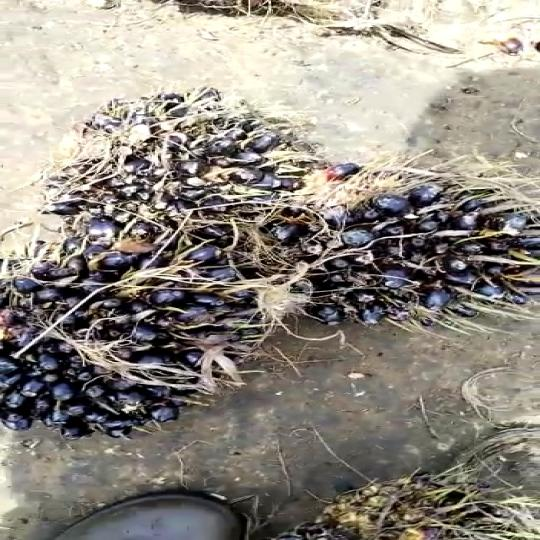mentah: (0, 254, 294, 454), (247, 191, 540, 328), (44, 96, 324, 237)
